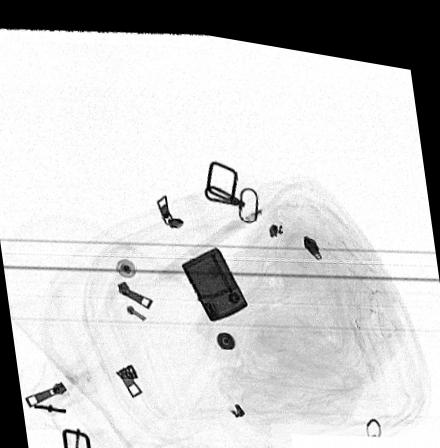Lighter: (181, 239, 248, 316)
